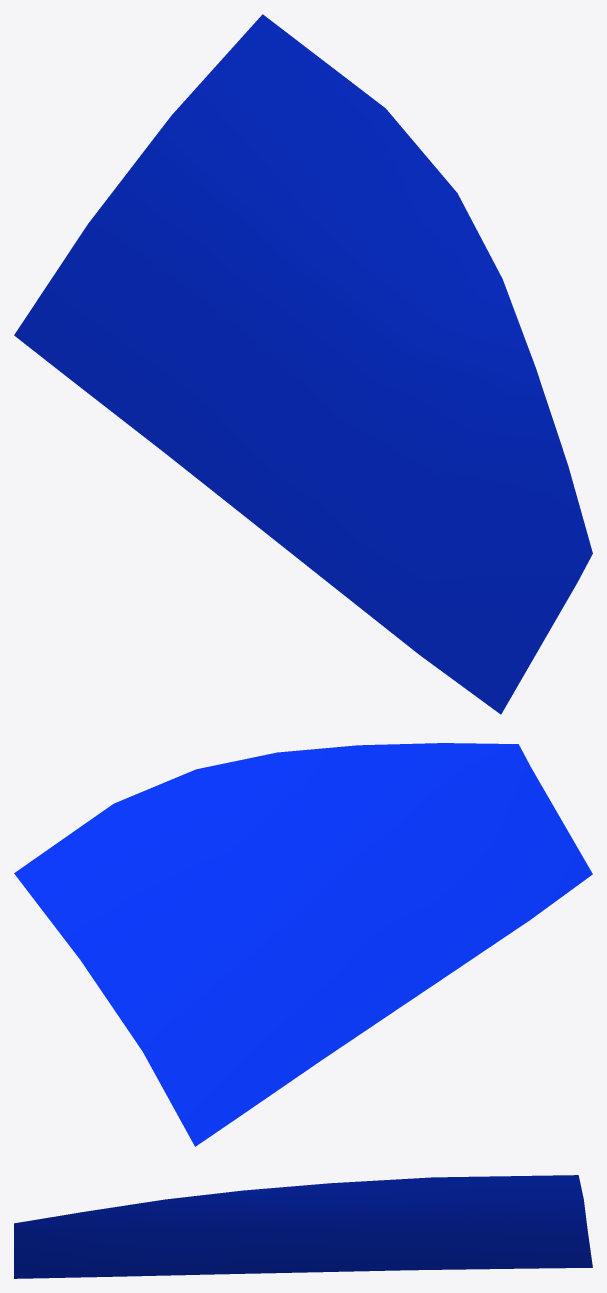
Rendered from Murcielago-RightDoorGlass.fbx.
The picture shows the model from 3 angles, top to bottom: view 1: azimuth 30°, elevation 25°; view 2: azimuth 150°, elevation 25°; view 3: azimuth 270°, elevation 25°; orthographic projection. The views are drawn at different scales.
Parts seen in each view (by area): view 1: P_RightVentana_Vidrio; view 2: P_RightVentana_Vidrio; view 3: P_RightVentana_Vidrio.
Boxes of the visible parts, x1,y1,x2,y2 form: P_RightVentana_Vidrio: (14, 14, 592, 714); P_RightVentana_Vidrio: (14, 743, 592, 1146); P_RightVentana_Vidrio: (14, 1175, 592, 1278).
Size of the model in its own units: 0.5074 by 0.587 by 1.78.
